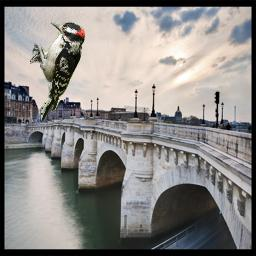Woodpecker: (30, 20, 85, 122)
